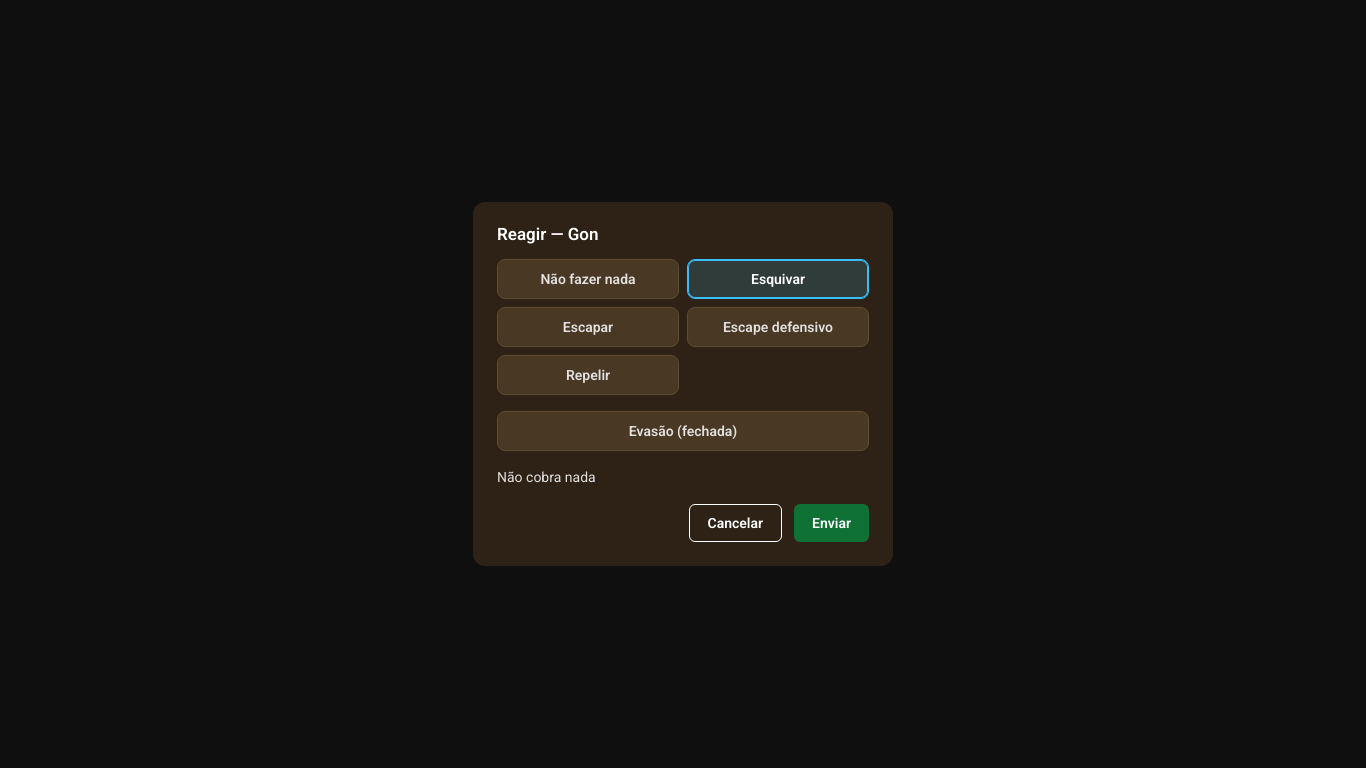
ReactionConfigDialog › Evasão só se liga em Esquivar e Escapar
Expected: the button "Evasão (fechada)" is enabled, [497,411,869,451]
Click the radio button labelled "Não fazer nada" at [588, 279], box [497,259,679,299]
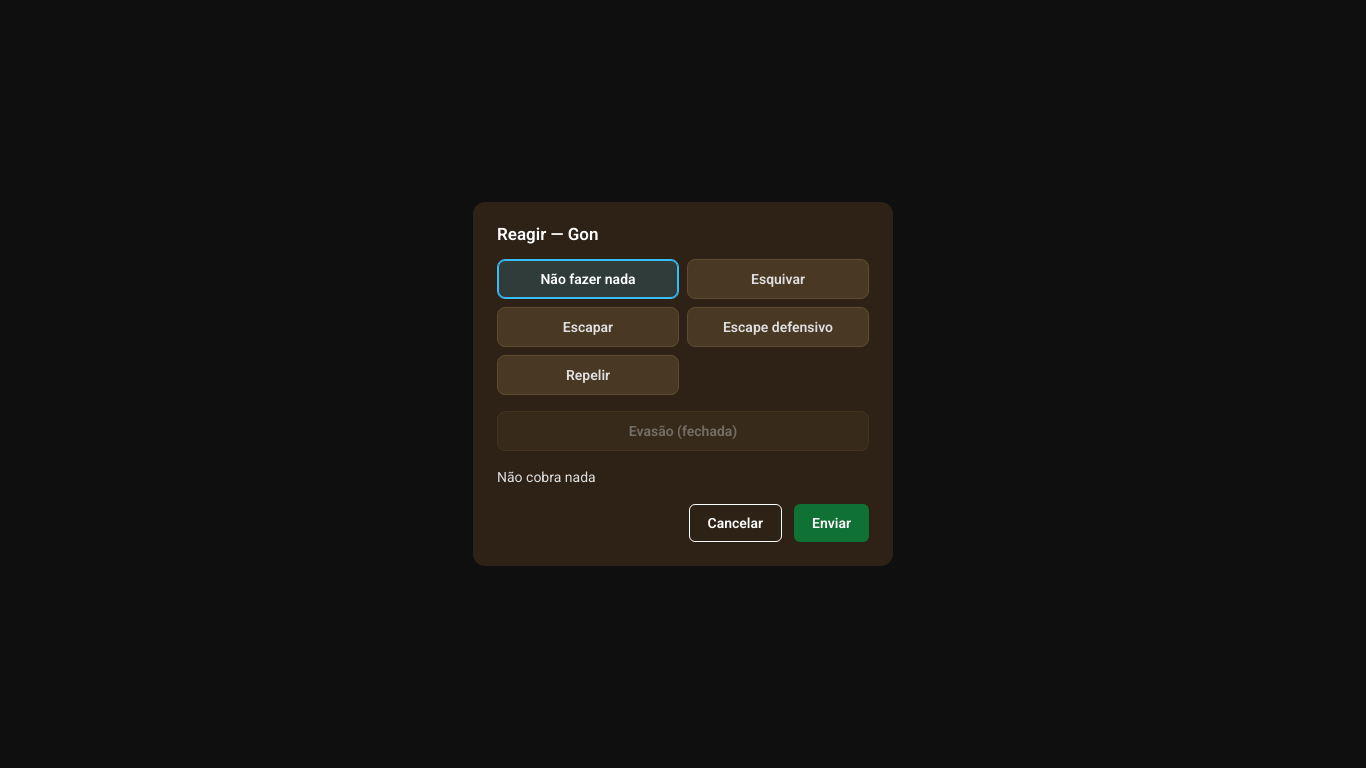
Expected: the button "Evasão (fechada)" is disabled, [497,411,869,451]
Click the radio button labelled "Escape defensivo" at [778, 327], box [687,307,869,347]
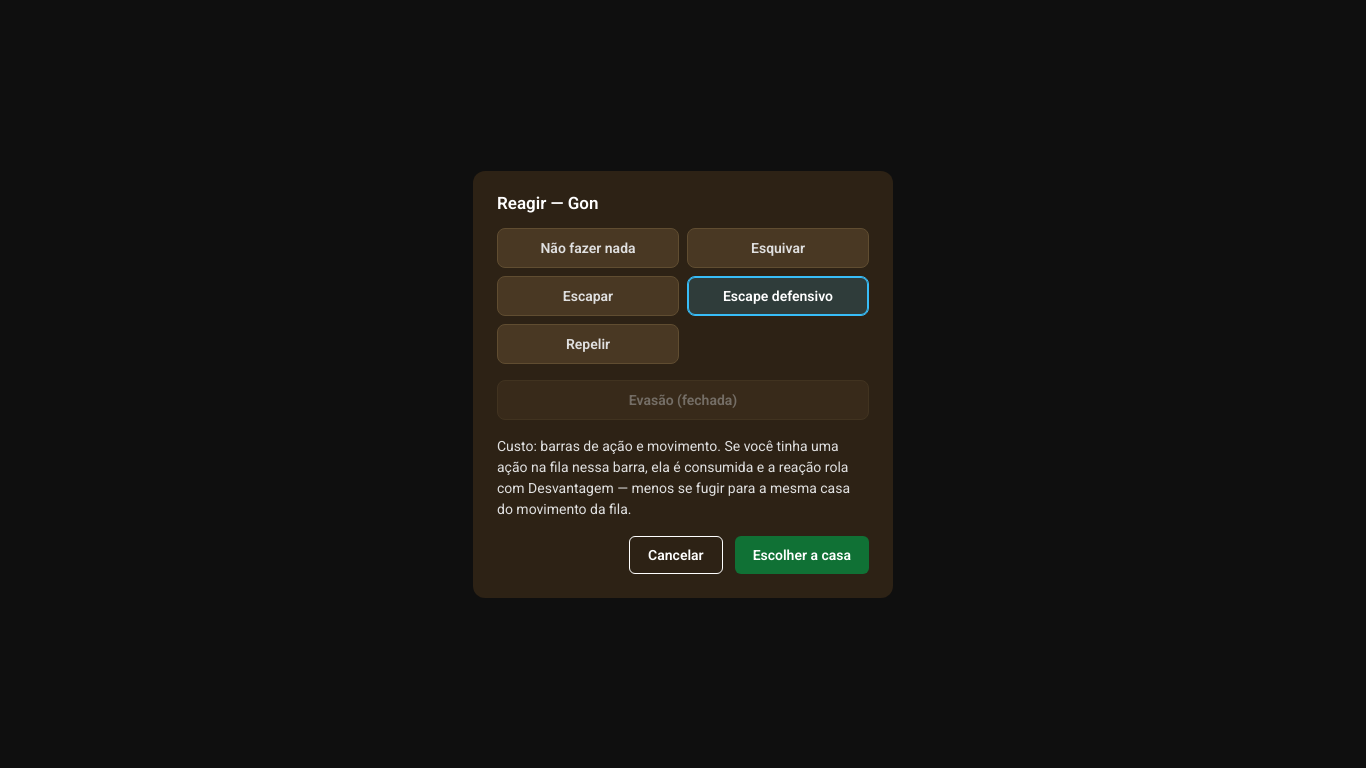
Expected: the button "Evasão (fechada)" is disabled, [497,380,869,420]
Click the radio button labelled "Repelir" at [588, 344], box [497,324,679,364]
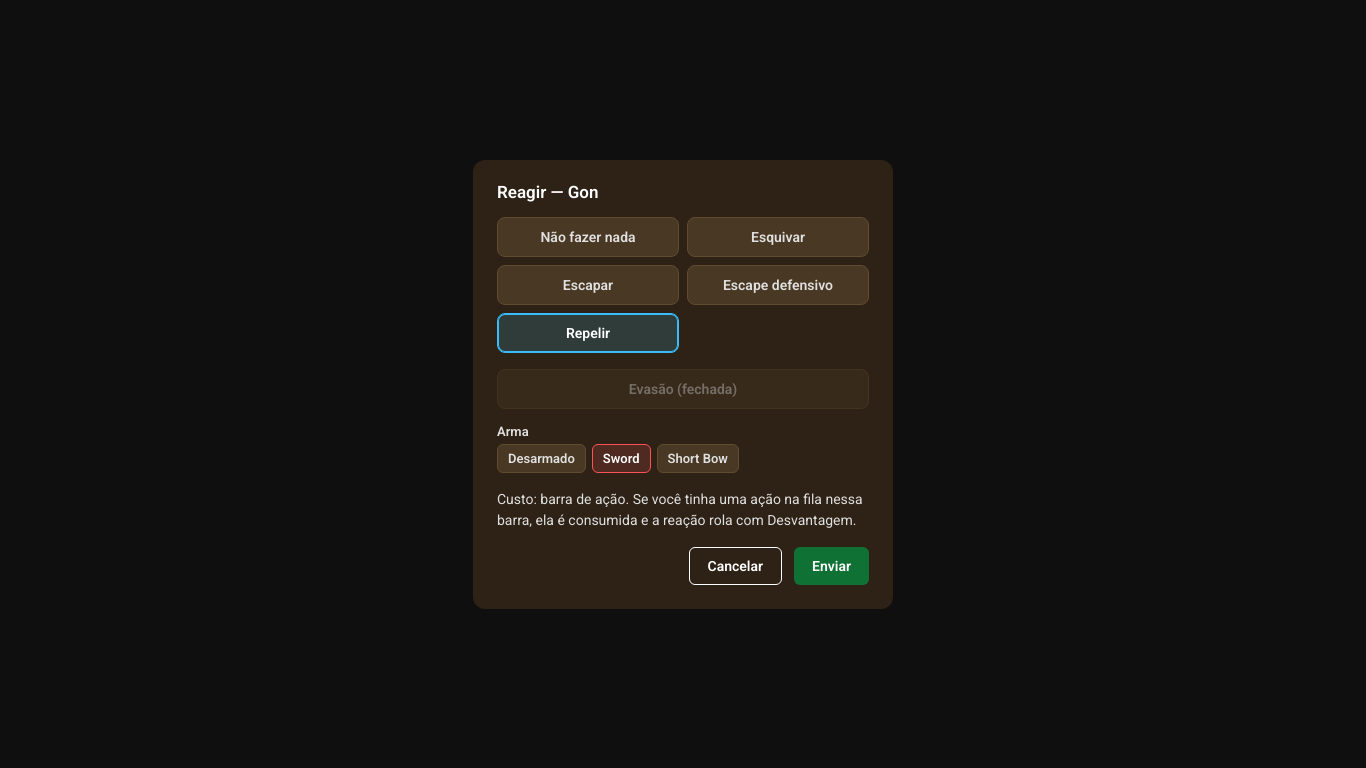
Expected: the button "Evasão (fechada)" is disabled, [497,368,869,408]
Click the radio button labelled "Escapar" at [588, 284], box [497,264,679,304]
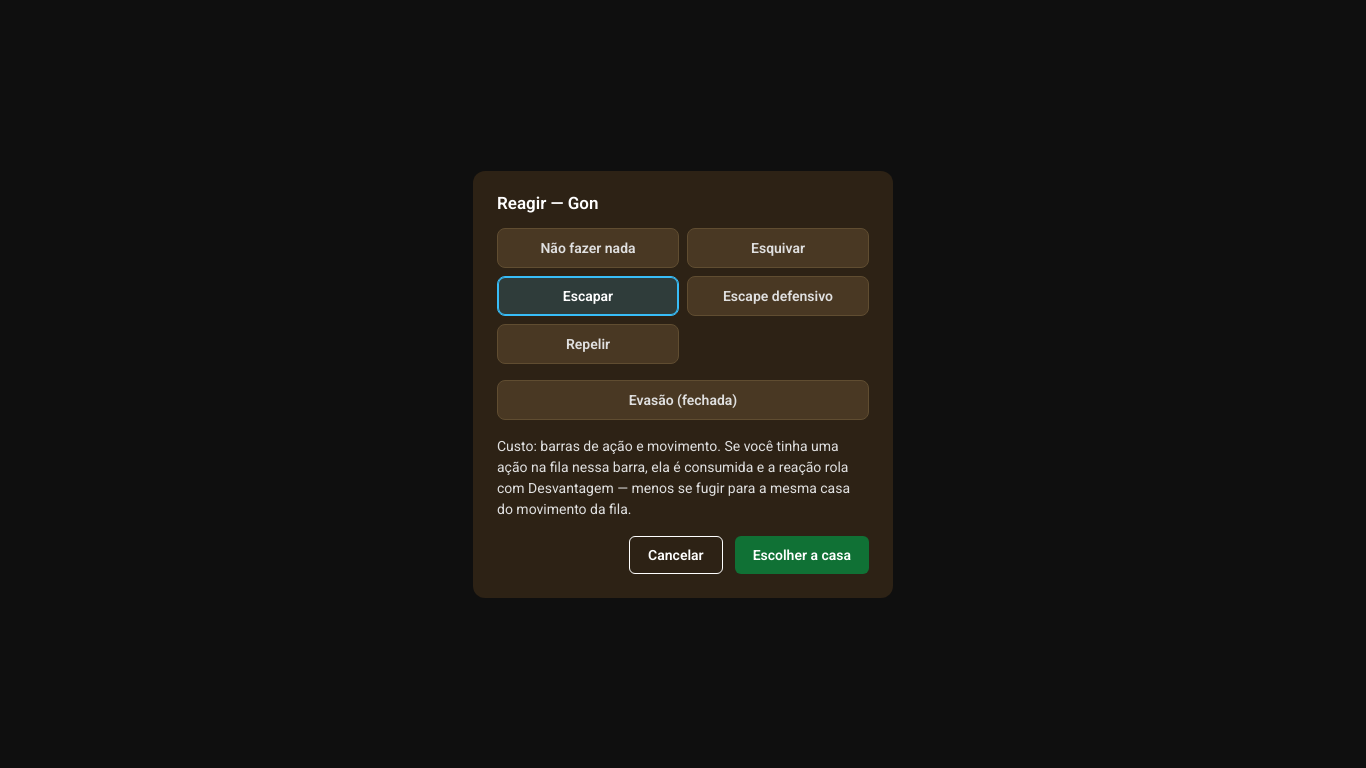
Expected: the button "Evasão (fechada)" is enabled, [497,380,869,420]
